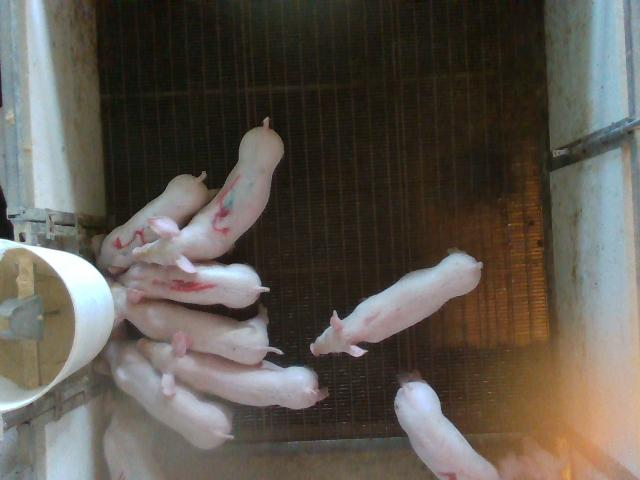pig-1: (119, 262, 269, 308)
pig-2: (394, 381, 499, 479)
pig-3: (132, 118, 284, 272)
pig-5: (92, 171, 215, 275)
